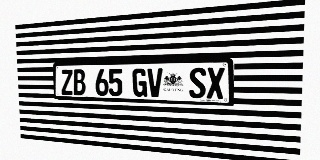5: (108, 69, 122, 96)
6: (95, 69, 109, 96)
B: (73, 69, 86, 95)
G: (132, 68, 147, 97)
S: (189, 67, 206, 98)
V: (147, 68, 163, 97)
X: (206, 67, 224, 99)
Z: (61, 69, 73, 95)
